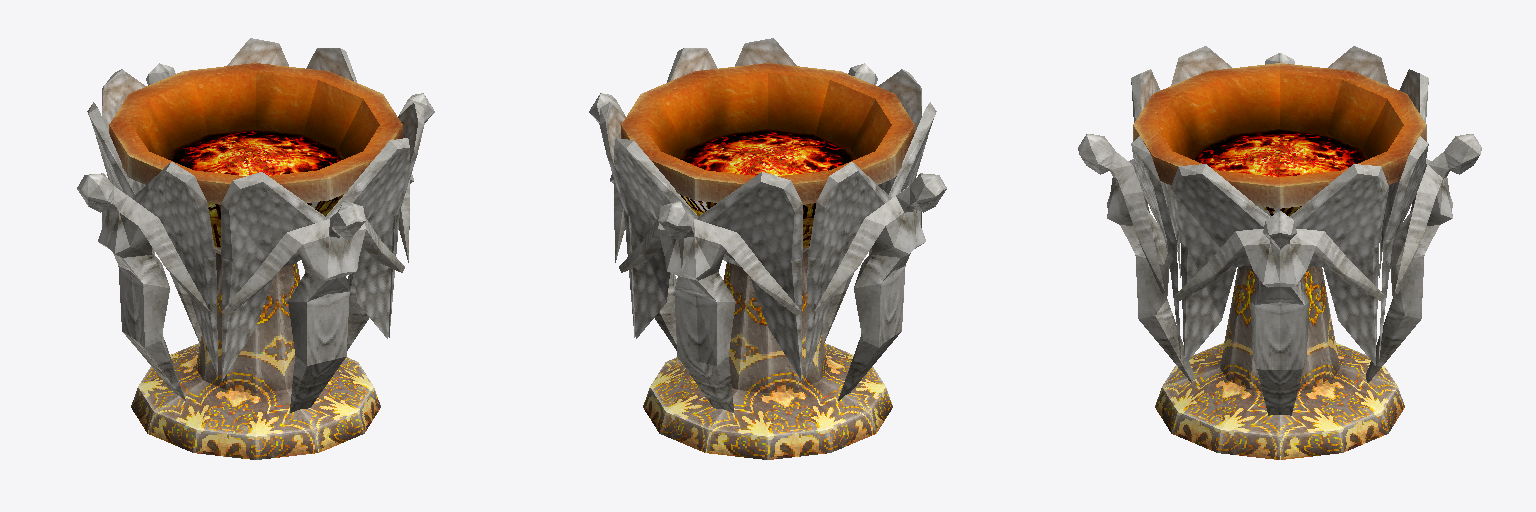
3 views of the same model, side by side, from view 1: azimuth 30°, elevation 25°; view 2: azimuth 150°, elevation 25°; view 3: azimuth 270°, elevation 25° (orthographic).
Visible parts, largest first — view 1: heavenTorch:Mesh; view 2: heavenTorch:Mesh; view 3: heavenTorch:Mesh.
Part boxes in pixels (bbox=[...]): heavenTorch:Mesh: bbox=[77, 38, 434, 459]; heavenTorch:Mesh: bbox=[589, 38, 946, 459]; heavenTorch:Mesh: bbox=[1078, 46, 1481, 459].
Bounding box in the file's own units: 1.37 × 1.13 × 1.37.
1 materials, 1 textured.